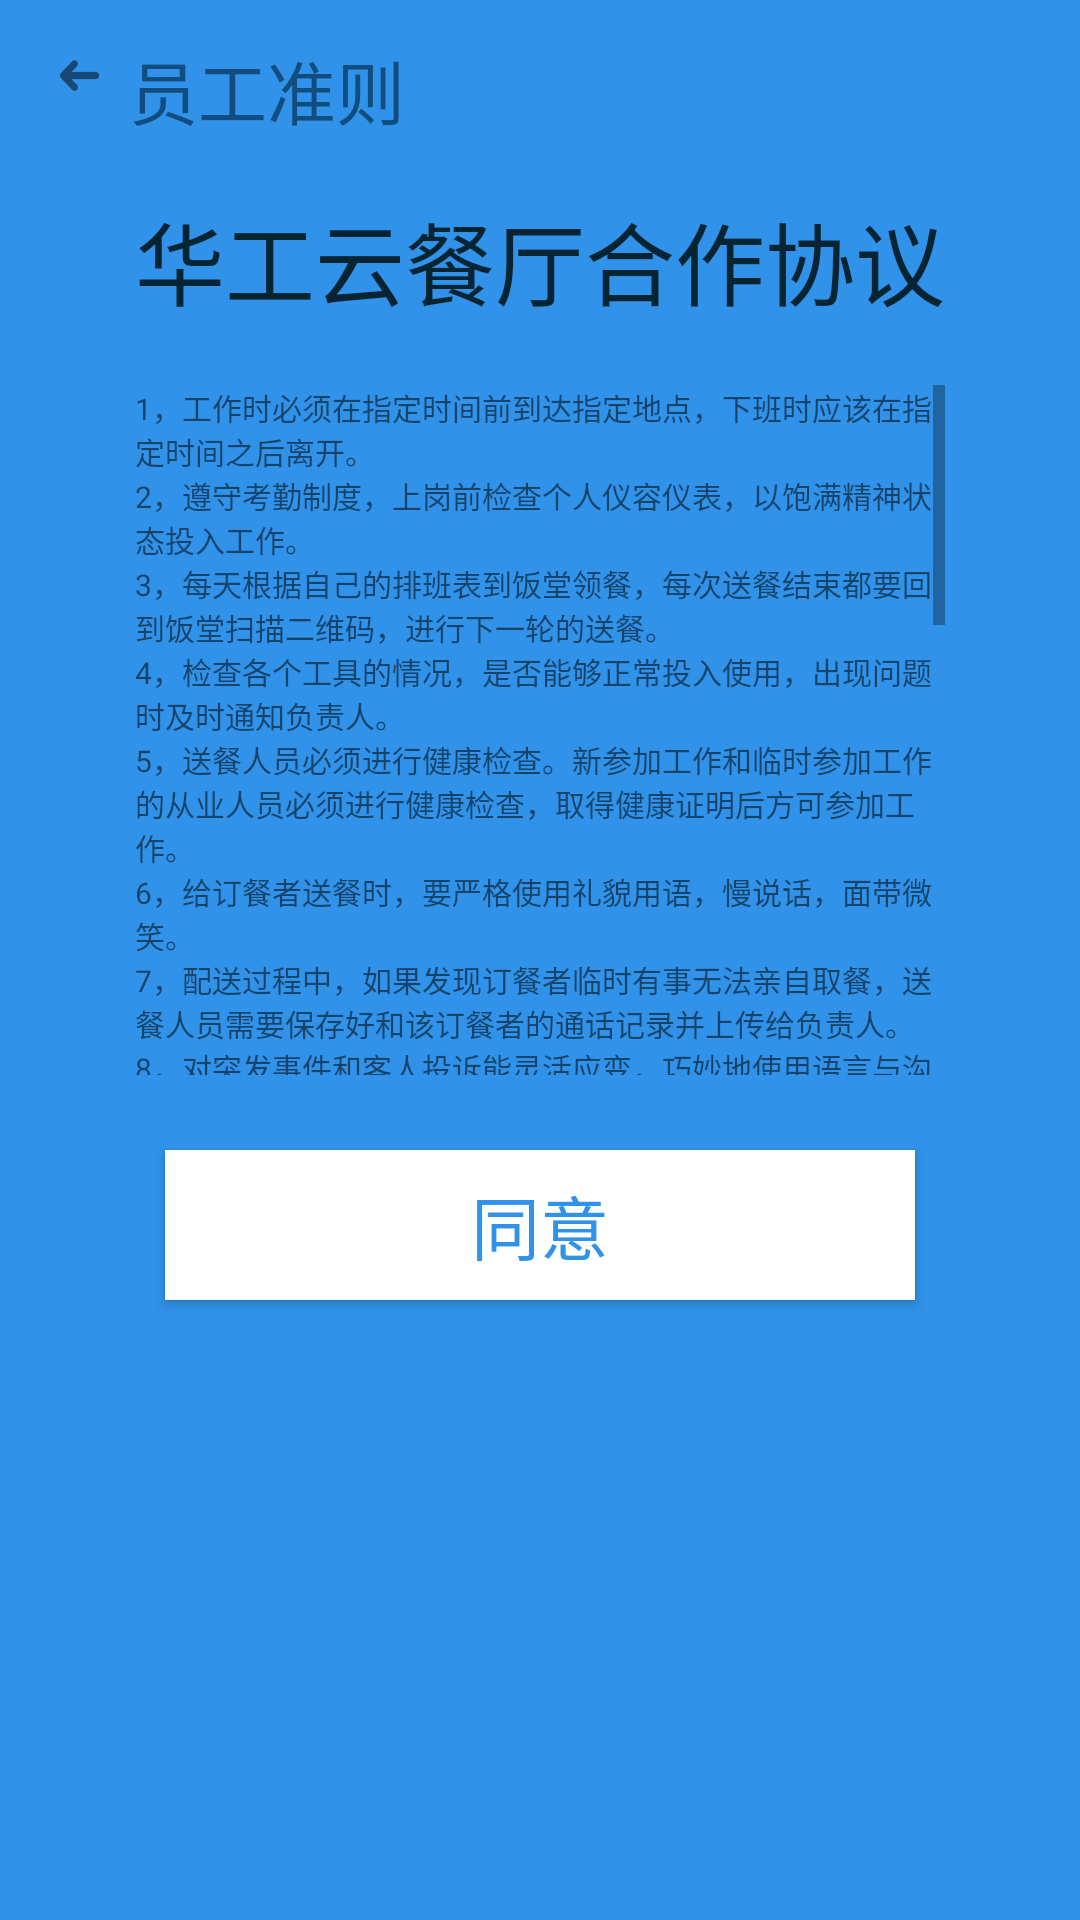

Where icons sit on this 1080x1920 app screen, as detection(x1, y1, x2, y2):
arrow left: detection(60, 60, 99, 91)
